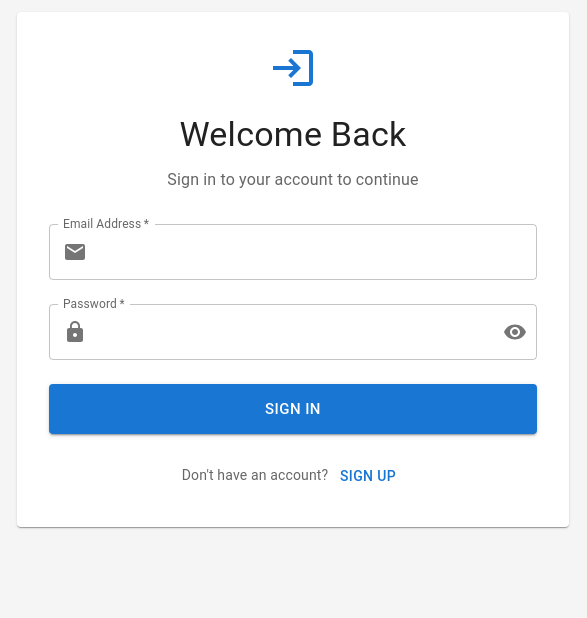
Scenario: LoginPage Component › handles API error
This screenshot has width=587, height=618.
In the field labelled "Email Address *": {"x": 316, "y": 252} [95,224,537,280], type "test@example.com"
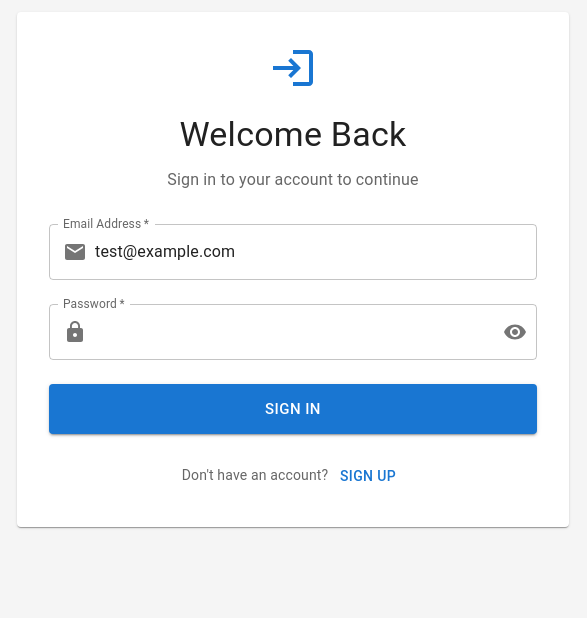
In the password field labelled "Password *": {"x": 291, "y": 332} [95,304,487,360], type "password123"
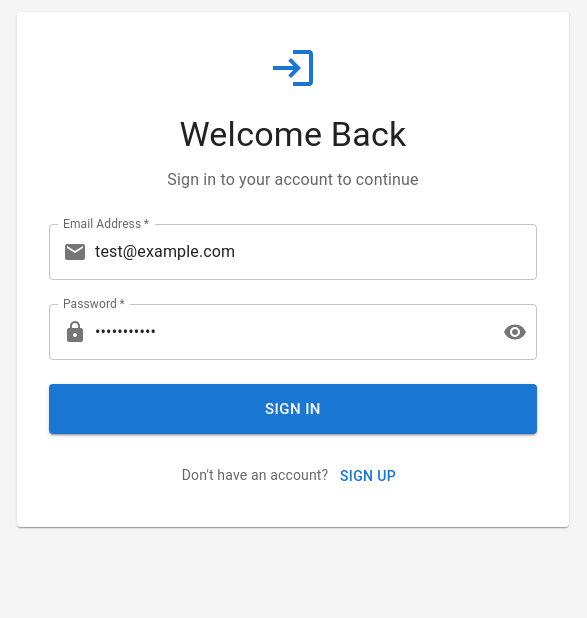
Click the button "Sign In": {"x": 293, "y": 409} [49,384,537,434]
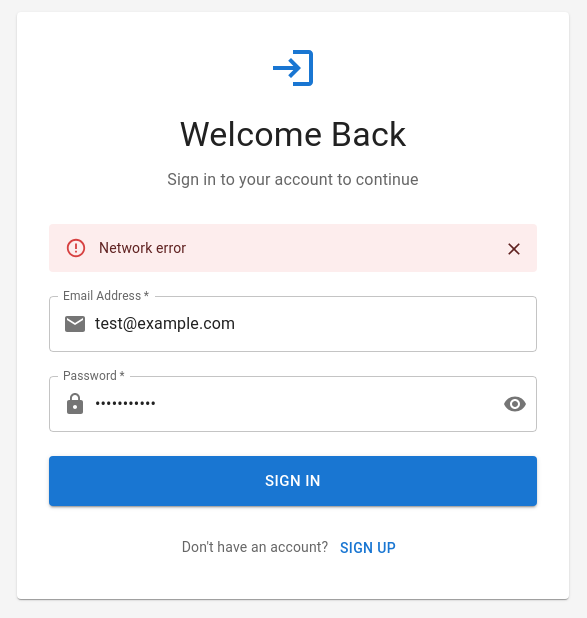
Expected: the text "Network error" is shown, [99,240,186,256]
